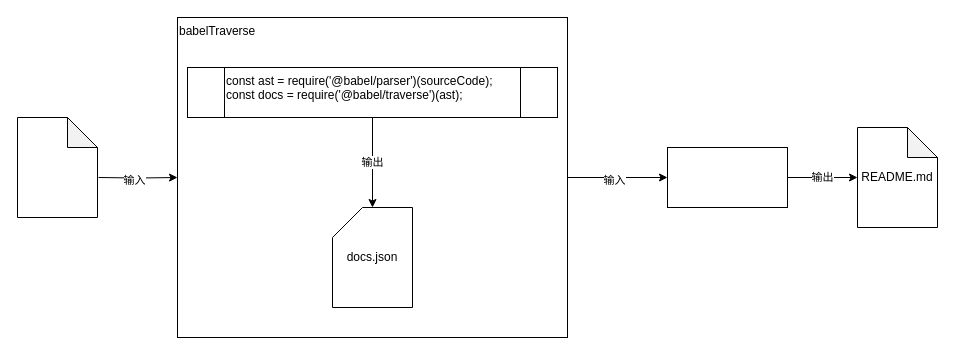
Some shapes in this 955 by 355 pixel diagram are drawn without their labels. The centre of each missing label's shape, as x and y in pixels:
"mdTransform" goes at (x=727, y=177).
"source-code" goes at (x=57, y=167).
